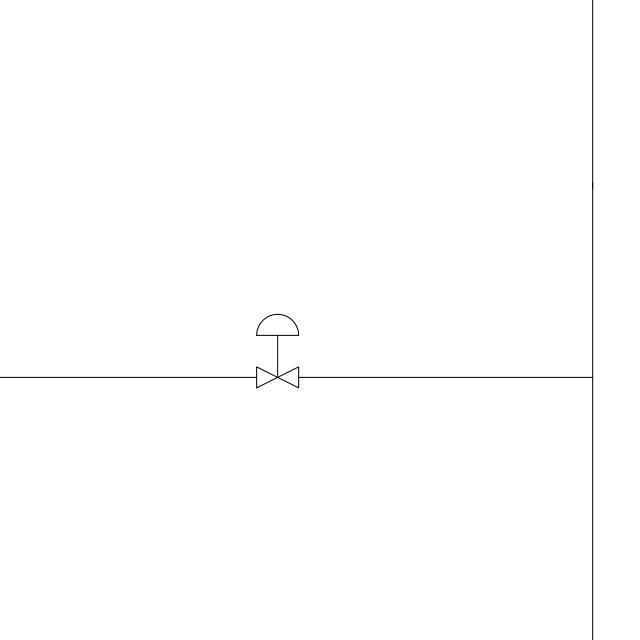FC: (251, 308, 305, 396)
